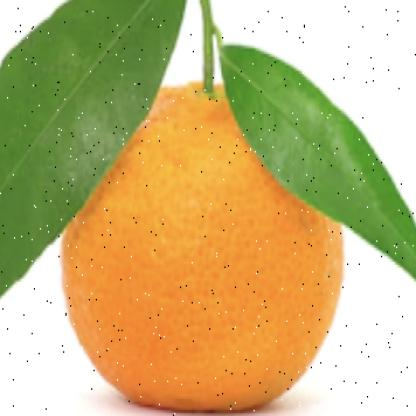fresh: (62, 69, 344, 409)
